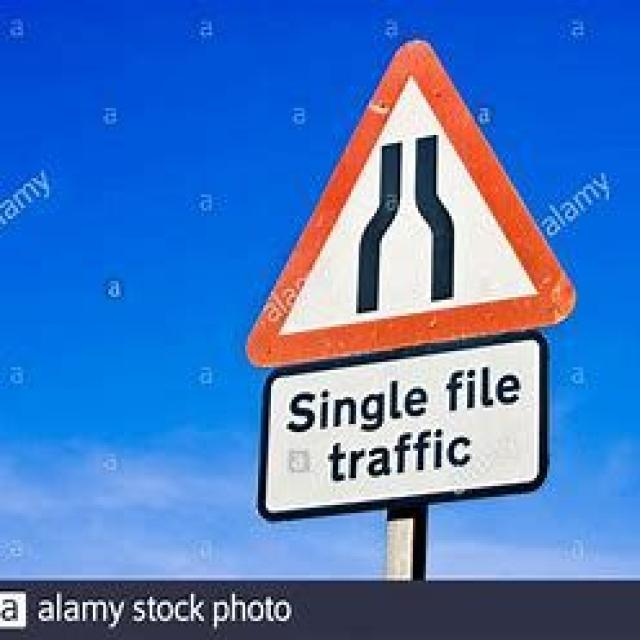NARROW_ROAD_AHEAD: (247, 39, 576, 370)
